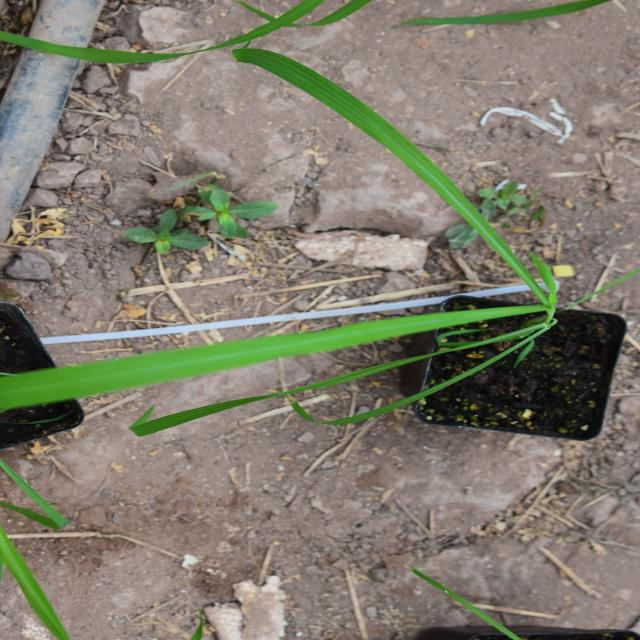barnyard_grass: (32, 71, 455, 594)
